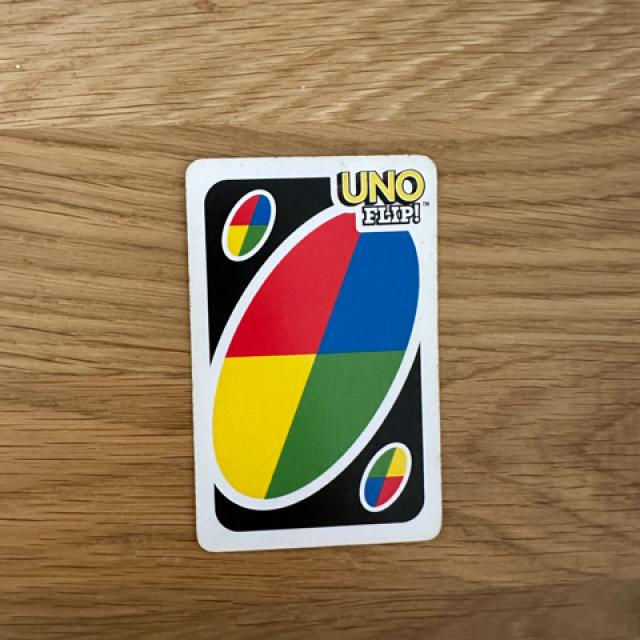lcolor-40: (199, 176, 278, 263)
